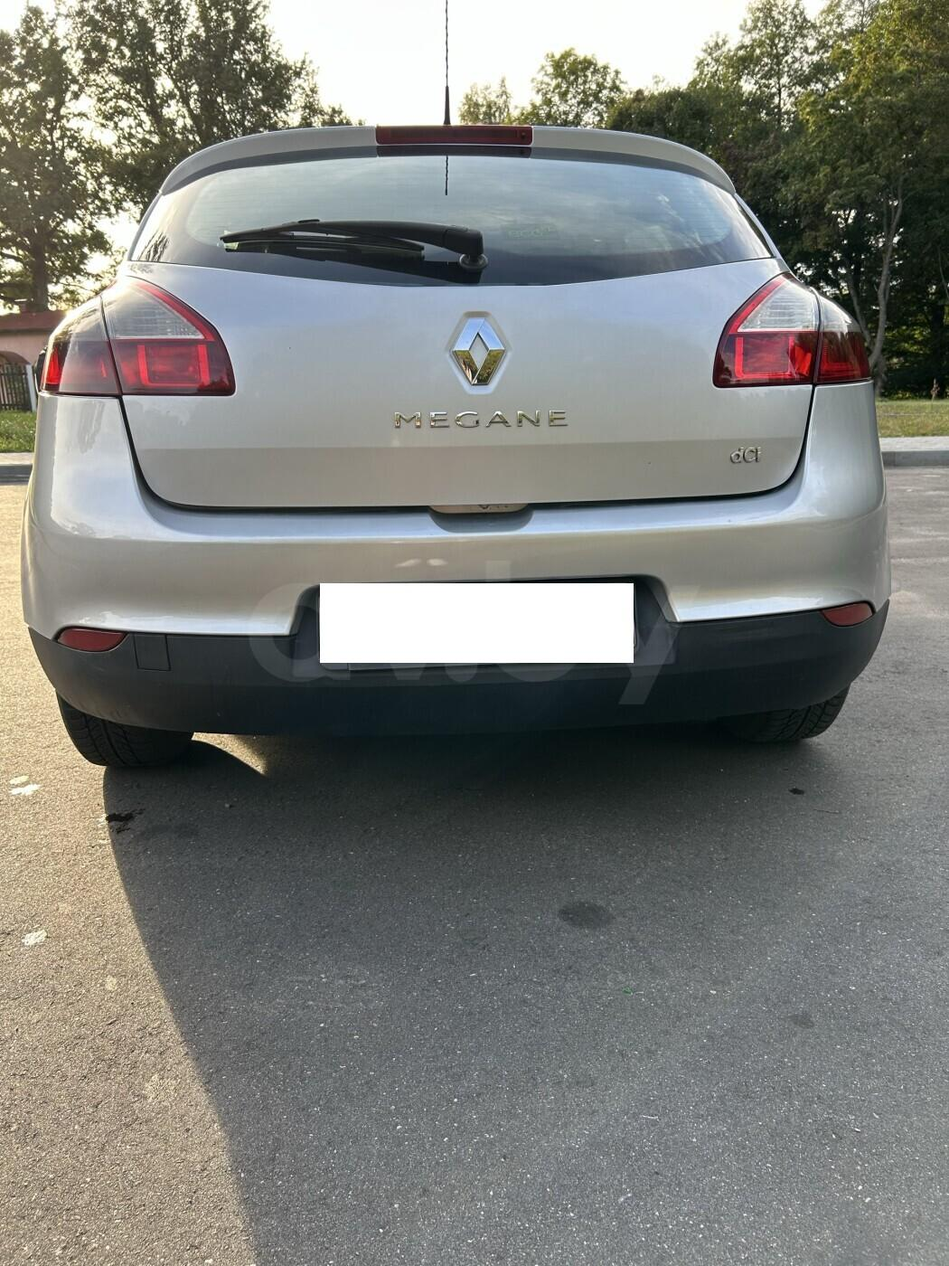Megane_2008-2014: (22, 121, 904, 779)
